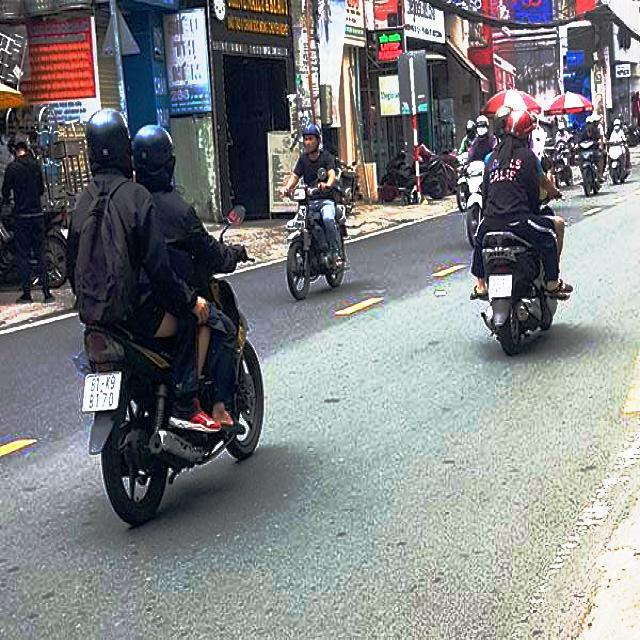license_plate: (83, 373, 121, 413), (489, 276, 513, 300)
